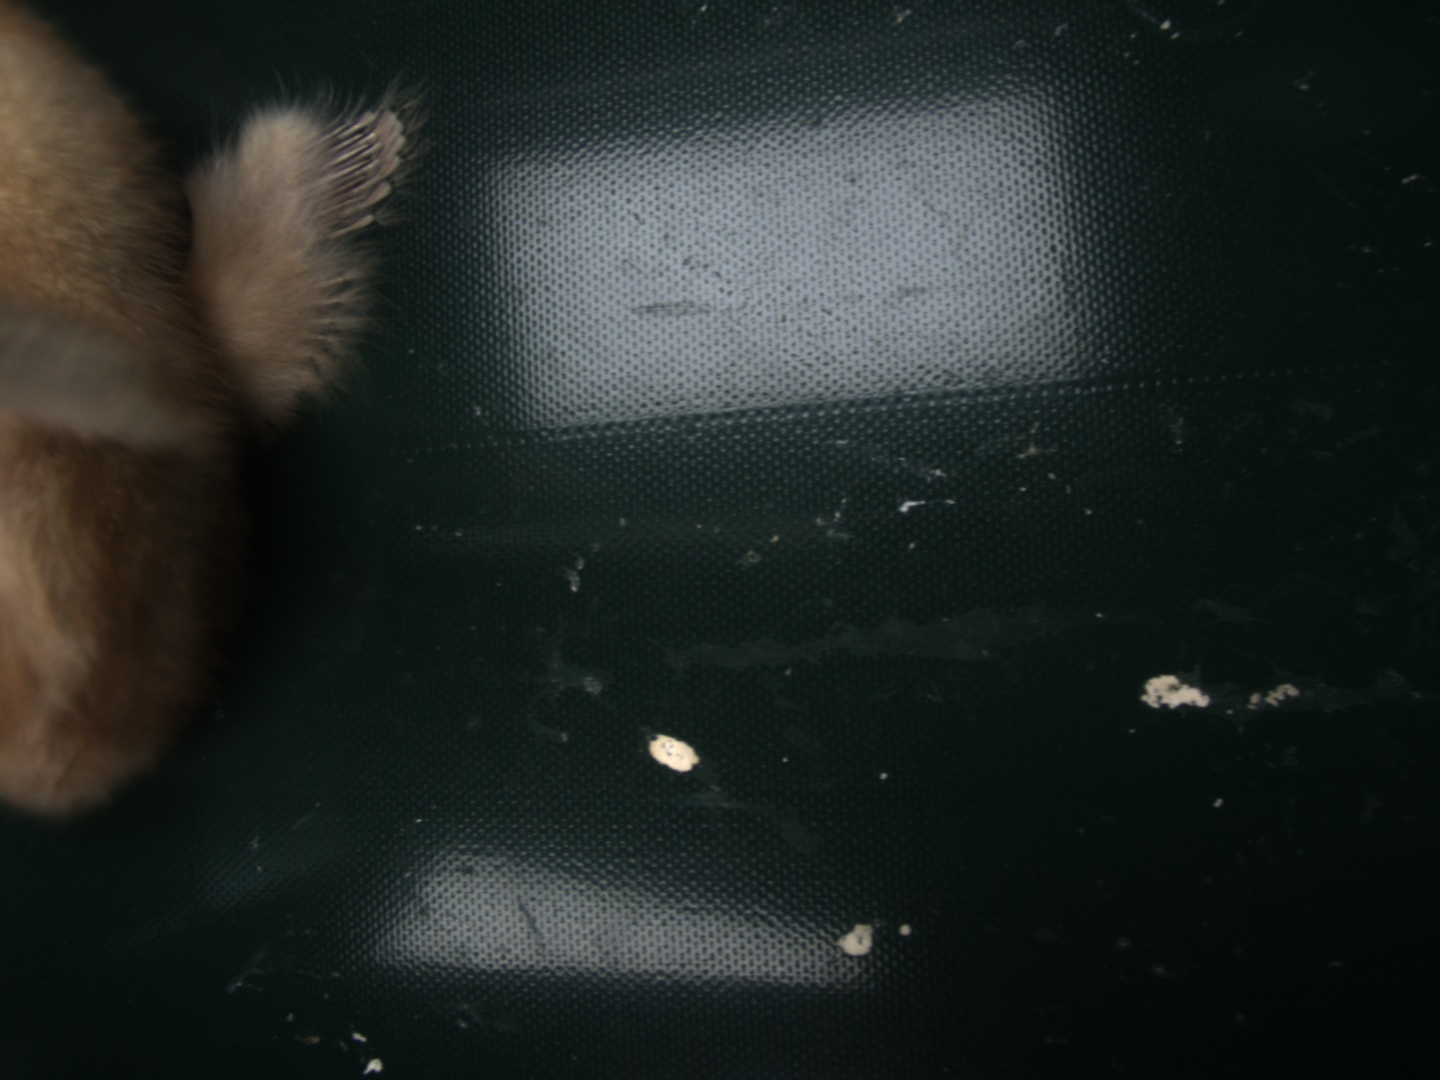female: (299, 106, 408, 252)
